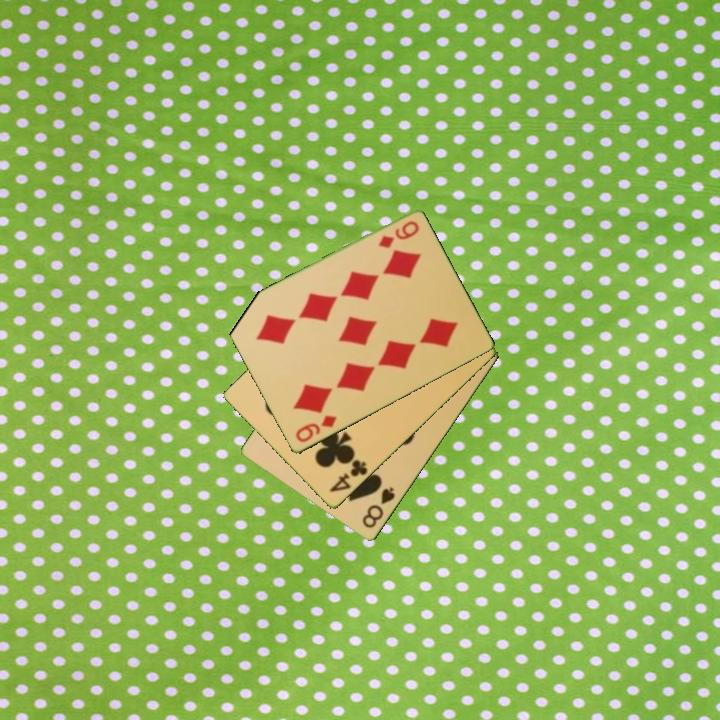4c: (326, 456, 371, 496)
8s: (359, 484, 398, 531)
9d: (374, 217, 422, 252), (292, 412, 340, 446)
